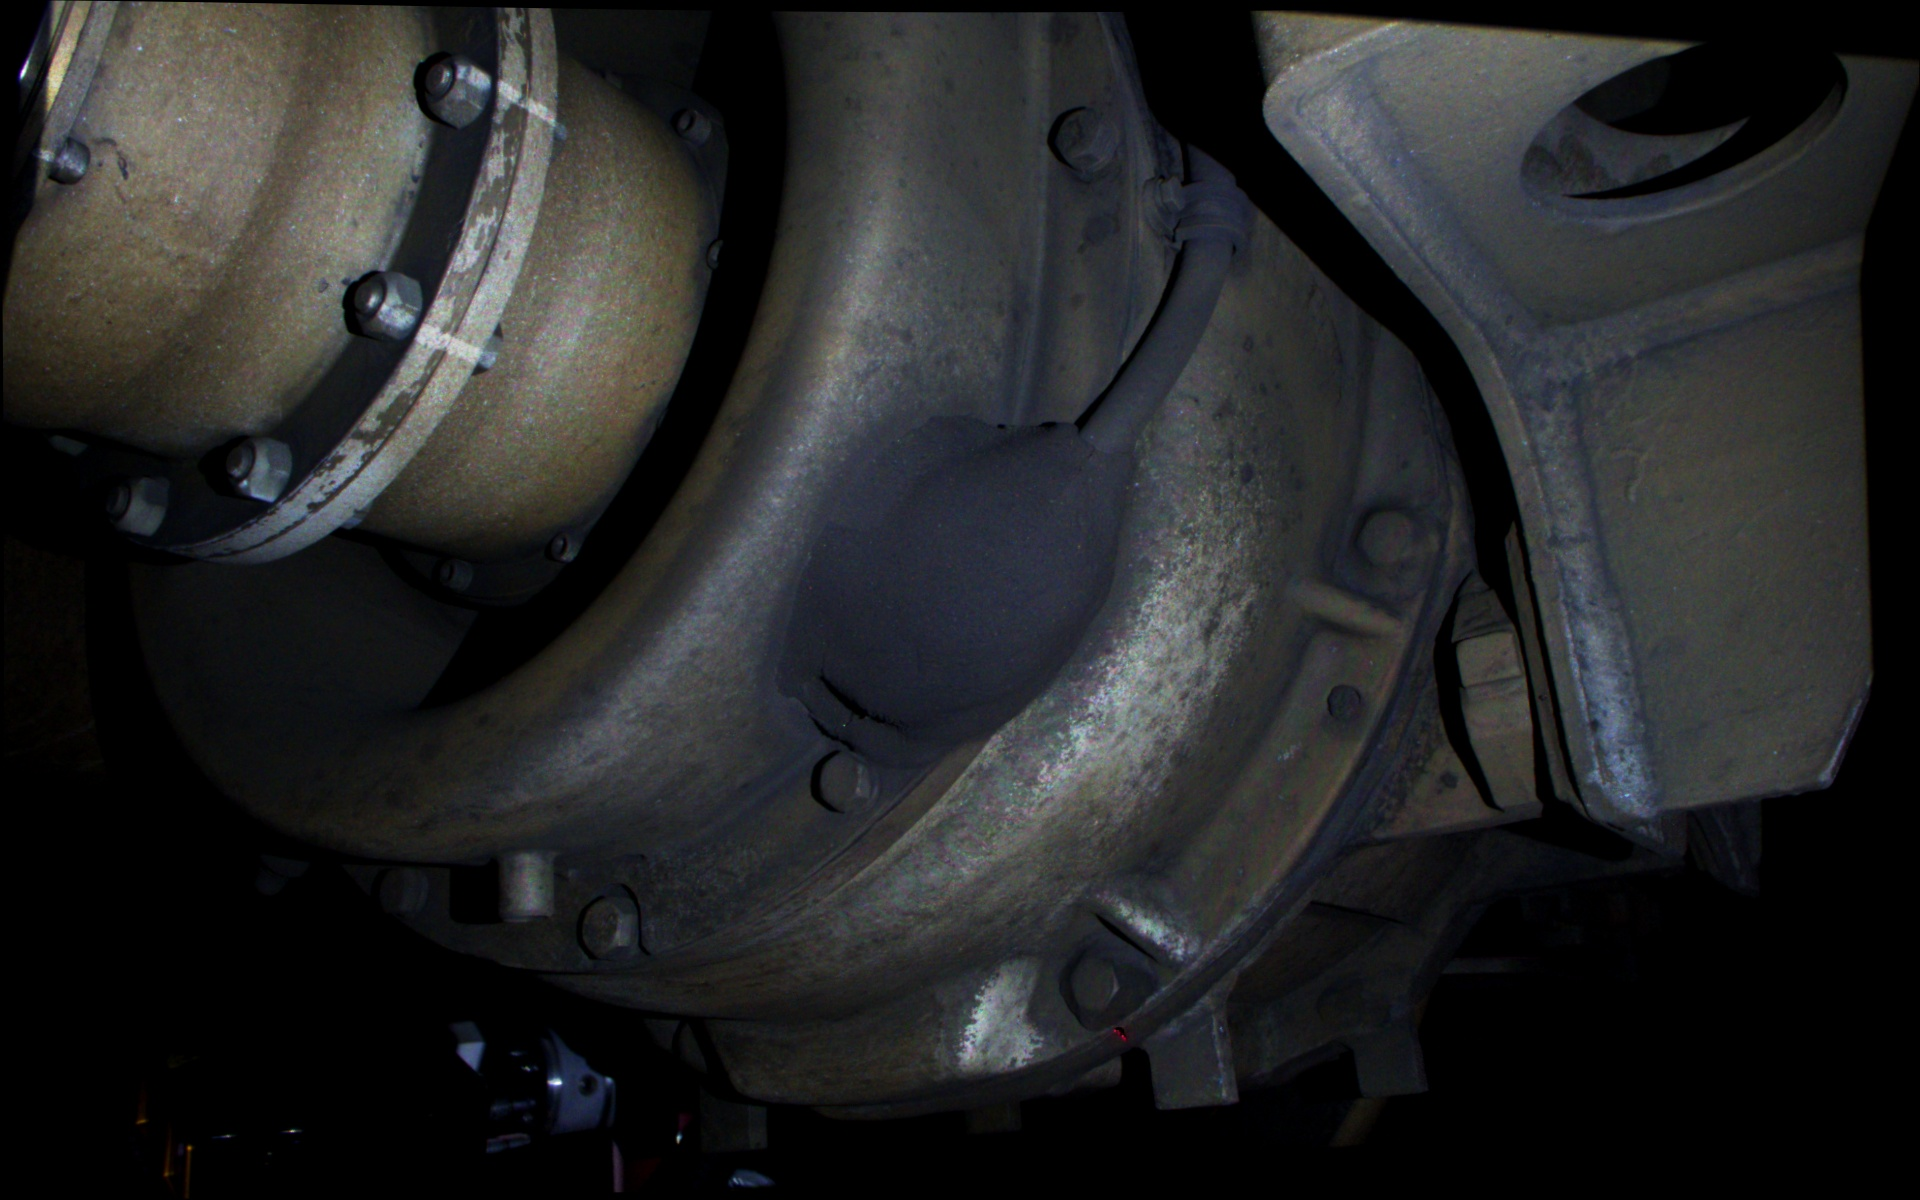bolthead1: (362, 864, 438, 936)
bolthead2: (558, 894, 639, 964)
bolthead3: (800, 742, 885, 817)
bolthead4: (1039, 101, 1117, 176)
bolthead5: (1062, 947, 1129, 1015)
bolthead6: (1346, 500, 1429, 579)
